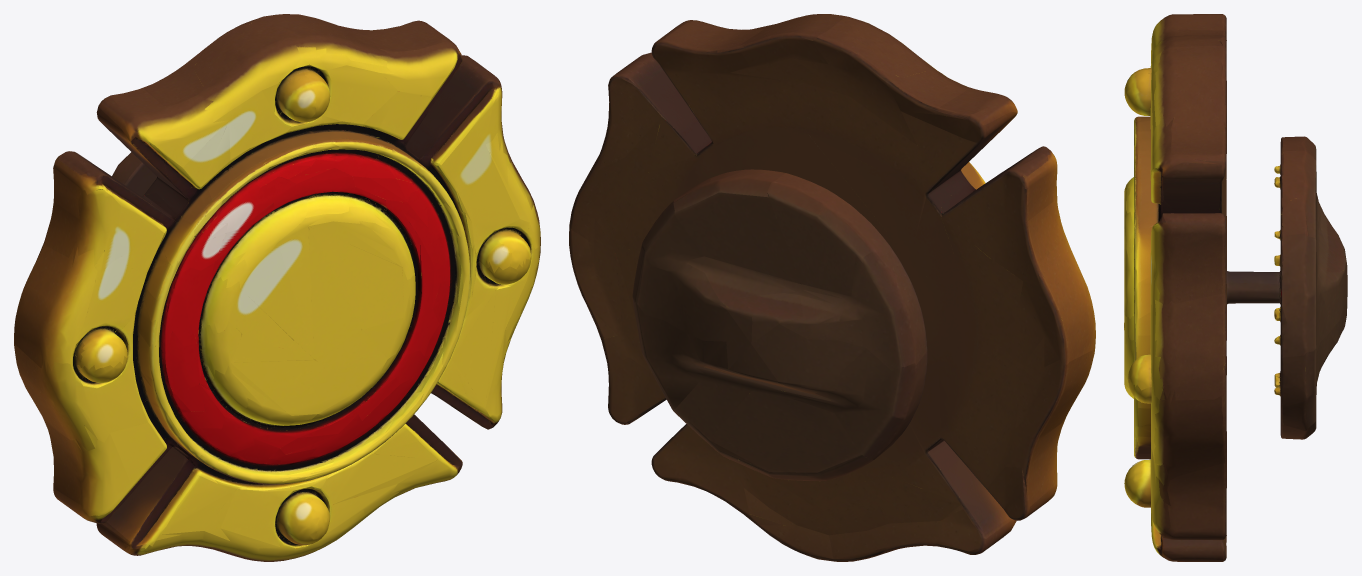
Rendered from badge.glb.
3 views of the same model, side by side, from view 1: azimuth 30°, elevation 25°; view 2: azimuth 150°, elevation 25°; view 3: azimuth 270°, elevation 25° (orthographic). The views are drawn at different scales.
Bounding box in the file's own units: 1.89 × 1.89 × 0.7927.
Materials: 1 (1 with a texture image).
